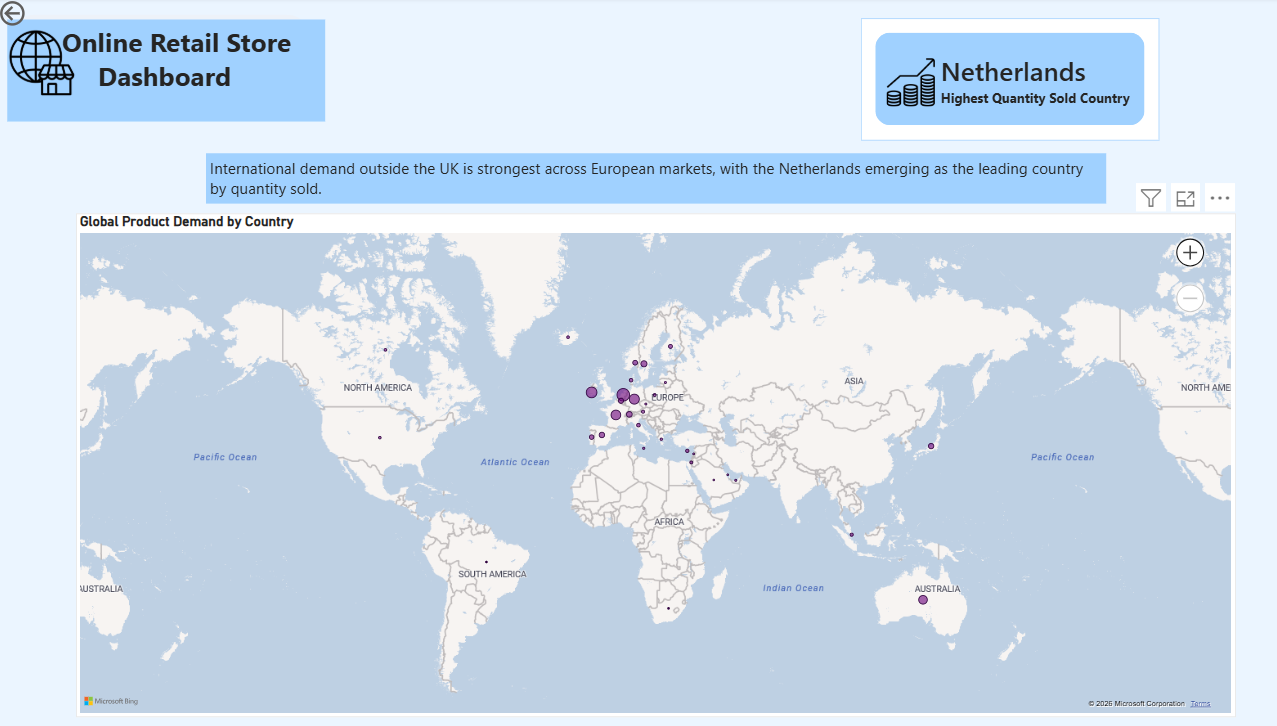

Layout of this report page (visuals, bound fields, positions):
{"tool":"powerbi","page":{"name":"Global Demand Distribution","canvas":[1570,900],"ordinal":3},"visuals":[{"type":"shape","box":[13.5,21.9,375.3,117.8],"z":0},{"type":"textbox","box":[13.5,26.9,388.8,124.6],"z":1000},{"type":"image","box":[13.3,39.8,84.7,81.3],"z":2000},{"type":"textbox","box":[257.3,190.9,1100.6,61.4],"z":3000},{"type":"cardVisual","fields":{"Data":["All measures.Highest Quantity Sold Country"]},"box":[1057.4,26.6,365.2,149.4],"z":6000},{"type":"map","title":"Global Product Demand by Country","fields":{"Category":["cleaned Online Retail.Country"],"Size":["All measures.Total Quantity Sold"]},"box":[97.9,263.9,1417.6,615.9],"z":7000},{"type":"actionButton","box":[0,0,100,40],"z":7001}]}

Visuals, with their boxes in screenshot pixels (x1, y1, x2, y2), scaled from the page's 1570x900 canvas onto the 1277x726 screenshot:
shape: BBox(11, 18, 316, 113)
textbox: BBox(11, 22, 327, 122)
image: BBox(11, 32, 80, 98)
textbox: BBox(209, 154, 1104, 204)
cardVisual - All measures.Highest Quantity Sold Country: BBox(860, 21, 1157, 142)
"Global Product Demand by Country" map: BBox(80, 213, 1233, 710)
actionButton: BBox(0, 0, 81, 32)
